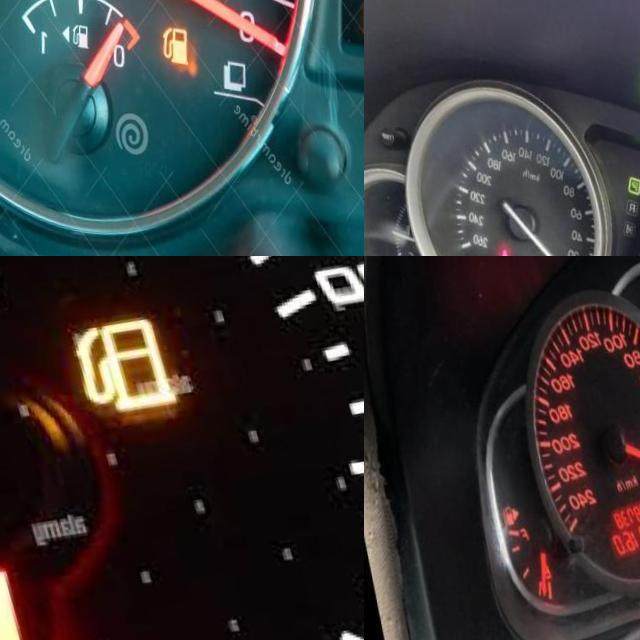Seat Belt: (496, 243, 507, 256)
